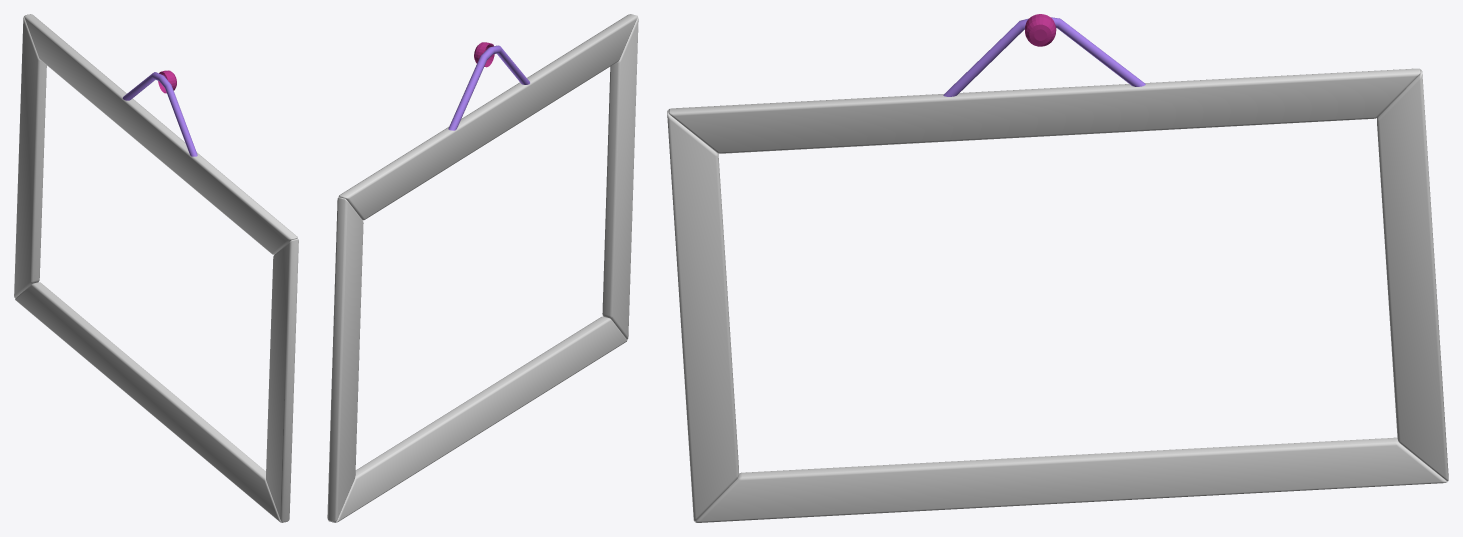
File: painting.fbx
3 renders of one model, left to right at view 1: azimuth 30°, elevation 25°; view 2: azimuth 150°, elevation 25°; view 3: azimuth 270°, elevation 25°, orthographic. The views are drawn at different scales.
Visible parts, largest first — view 1: Plane.005, Plane.008; view 2: Plane.005, Plane.008; view 3: Plane.005, Plane.008.
Part boxes in pixels (x1=…): Plane.005: x1=14, y1=14, x2=298, y2=522; Plane.008: x1=122, y1=72, x2=197, y2=156; Plane.005: x1=327, y1=14, x2=638, y2=522; Plane.008: x1=448, y1=45, x2=529, y2=130; Plane.005: x1=667, y1=68, x2=1448, y2=522; Plane.008: x1=943, y1=17, x2=1145, y2=96.
Bounding box in the file's own units: 9.96 × 220 × 306.
